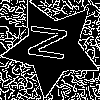N: (27, 22, 77, 65)
